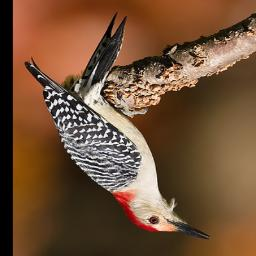Woodpecker: (21, 9, 211, 241)
